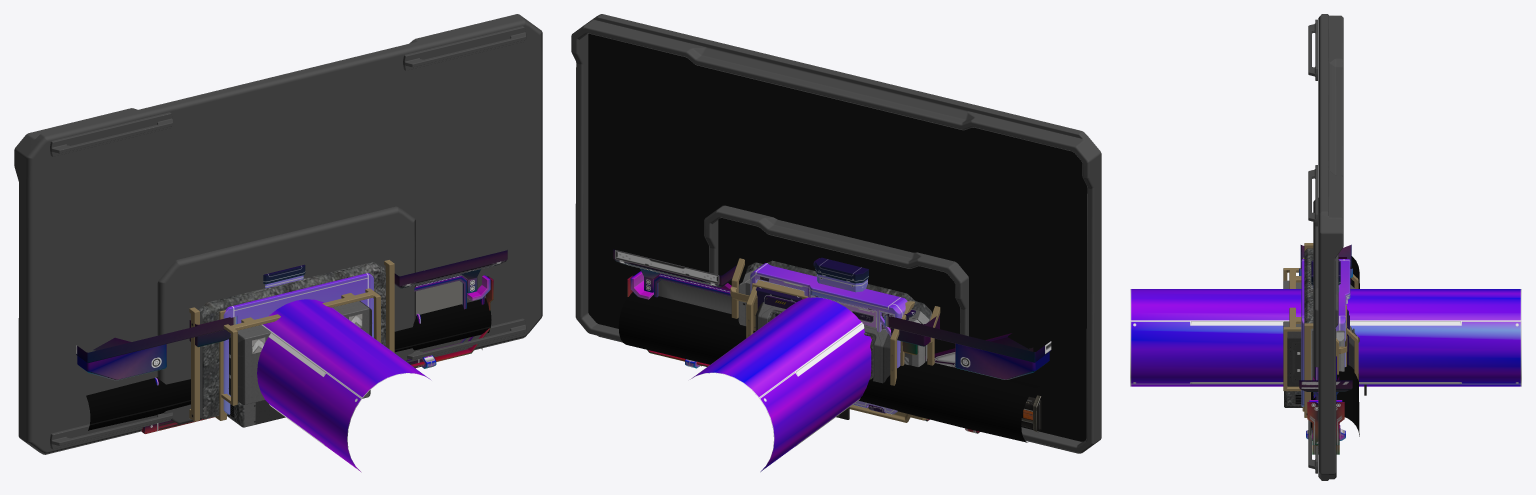
Rendered from wand.glb.
The picture shows the model from 3 angles, left to right: view 1: azimuth 30°, elevation 25°; view 2: azimuth 150°, elevation 25°; view 3: azimuth 270°, elevation 25°; orthographic projection. The views are drawn at different scales.
Parts seen in each view (by area): view 1: prop_wand_display_video_wall_3_a, prop_wand_display_video_wall_2_a, prop_wand_pipe_air_processing_1_straight_01x01x04_a, prop_wand_nav_sign_9_042x0055x011_a, prop_wand_roomsm_addon_pipe_bottom_b, prop_wand_relay_electrical_2_a, prop_wand_relay_electrical_1_a, prop_wand_fuse_mounted_1_c, prop_wand_fuse_mounted_1_b; view 2: prop_wand_display_video_wall_3_screen_1_a, prop_wand_display_video_wall_3_a, prop_wand_pipe_air_processing_1_straight_01x01x04_a, prop_wand_roomsm_addon_pipe_bottom_b, prop_wand_nav_sign_9_042x0055x011_a, prop_wand_display_video_wall_2_a, prop_wand_fuse_mounted_1_c, prop_wand_relay_electrical_2_a, prop_wand_relay_electrical_1_a, prop_wand_fuse_mounted_1_b, prop_wand_relay_electrical_3_a, prop_wand_roomsm_addon_pipe_bottom_a; view 3: prop_wand_pipe_air_processing_1_straight_01x01x04_a, prop_wand_display_video_wall_3_a, prop_wand_relay_electrical_1_a, prop_wand_relay_electrical_2_a, prop_wand_nav_sign_9_042x0055x011_a, prop_wand_fuse_mounted_1_c, prop_wand_display_video_wall_2_a, prop_wand_roomsm_addon_pipe_bottom_b.
Part boxes in pixels (x1,y1,x2,y2): prop_wand_display_video_wall_3_a: [14, 14, 542, 454]; prop_wand_display_video_wall_2_a: [157, 206, 415, 423]; prop_wand_pipe_air_processing_1_straight_01x01x04_a: [257, 299, 431, 472]; prop_wand_nav_sign_9_042x0055x011_a: [76, 250, 507, 380]; prop_wand_roomsm_addon_pipe_bottom_b: [86, 298, 491, 430]; prop_wand_relay_electrical_2_a: [189, 260, 394, 421]; prop_wand_relay_electrical_1_a: [221, 288, 380, 427]; prop_wand_fuse_mounted_1_c: [223, 273, 373, 414]; prop_wand_fuse_mounted_1_b: [263, 264, 305, 288]; prop_wand_display_video_wall_3_screen_1_a: [588, 33, 1087, 441]; prop_wand_display_video_wall_3_a: [571, 14, 1101, 453]; prop_wand_pipe_air_processing_1_straight_01x01x04_a: [690, 297, 871, 472]; prop_wand_roomsm_addon_pipe_bottom_b: [618, 292, 1039, 442]; prop_wand_nav_sign_9_042x0055x011_a: [613, 249, 1051, 379]; prop_wand_display_video_wall_2_a: [704, 205, 968, 336]; prop_wand_fuse_mounted_1_c: [750, 263, 915, 414]; prop_wand_relay_electrical_2_a: [730, 258, 940, 422]; prop_wand_relay_electrical_1_a: [746, 286, 899, 385]; prop_wand_fuse_mounted_1_b: [813, 257, 868, 292]; prop_wand_relay_electrical_3_a: [752, 280, 914, 365]; prop_wand_roomsm_addon_pipe_bottom_a: [1021, 395, 1041, 432]; prop_wand_pipe_air_processing_1_straight_01x01x04_a: [1130, 289, 1521, 386]; prop_wand_display_video_wall_3_a: [1308, 14, 1343, 480]; prop_wand_relay_electrical_1_a: [1283, 268, 1359, 407]; prop_wand_relay_electrical_2_a: [1304, 243, 1347, 417]; prop_wand_nav_sign_9_042x0055x011_a: [1299, 244, 1352, 454]; prop_wand_fuse_mounted_1_c: [1301, 259, 1350, 406]; prop_wand_display_video_wall_2_a: [1313, 198, 1338, 395]; prop_wand_roomsm_addon_pipe_bottom_b: [1310, 256, 1366, 436].
Size of the model in its own units: 5.15 by 3.04 by 4.
50 materials, 37 textured.
